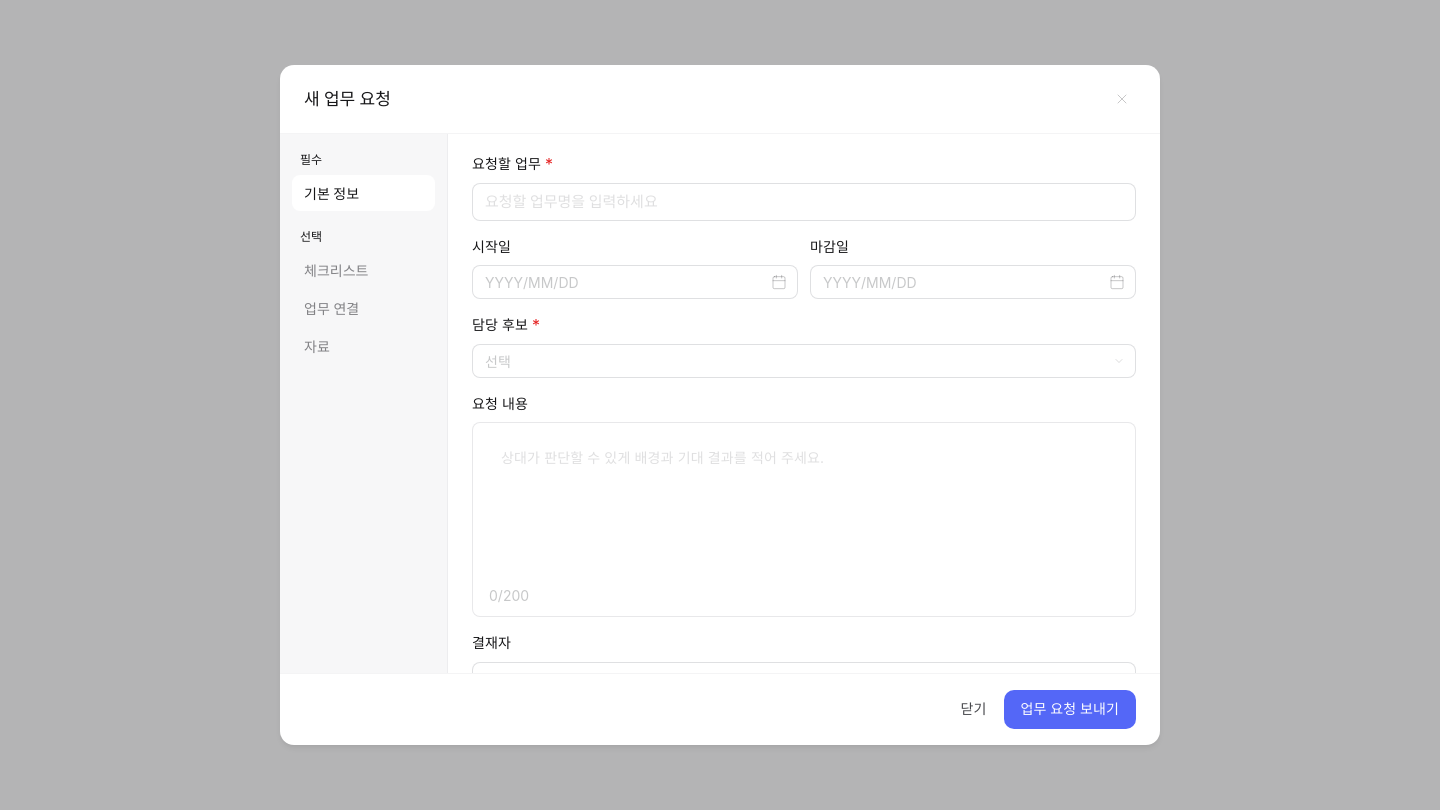
요청 갈래의 자료 — 보낸 요청에 두 단계로 붙는다 › 요청 갈래에도 자료 탭과 파일·링크 입력이 선다
Click the tab "자료": x=364, y=346 [292, 328, 435, 364]
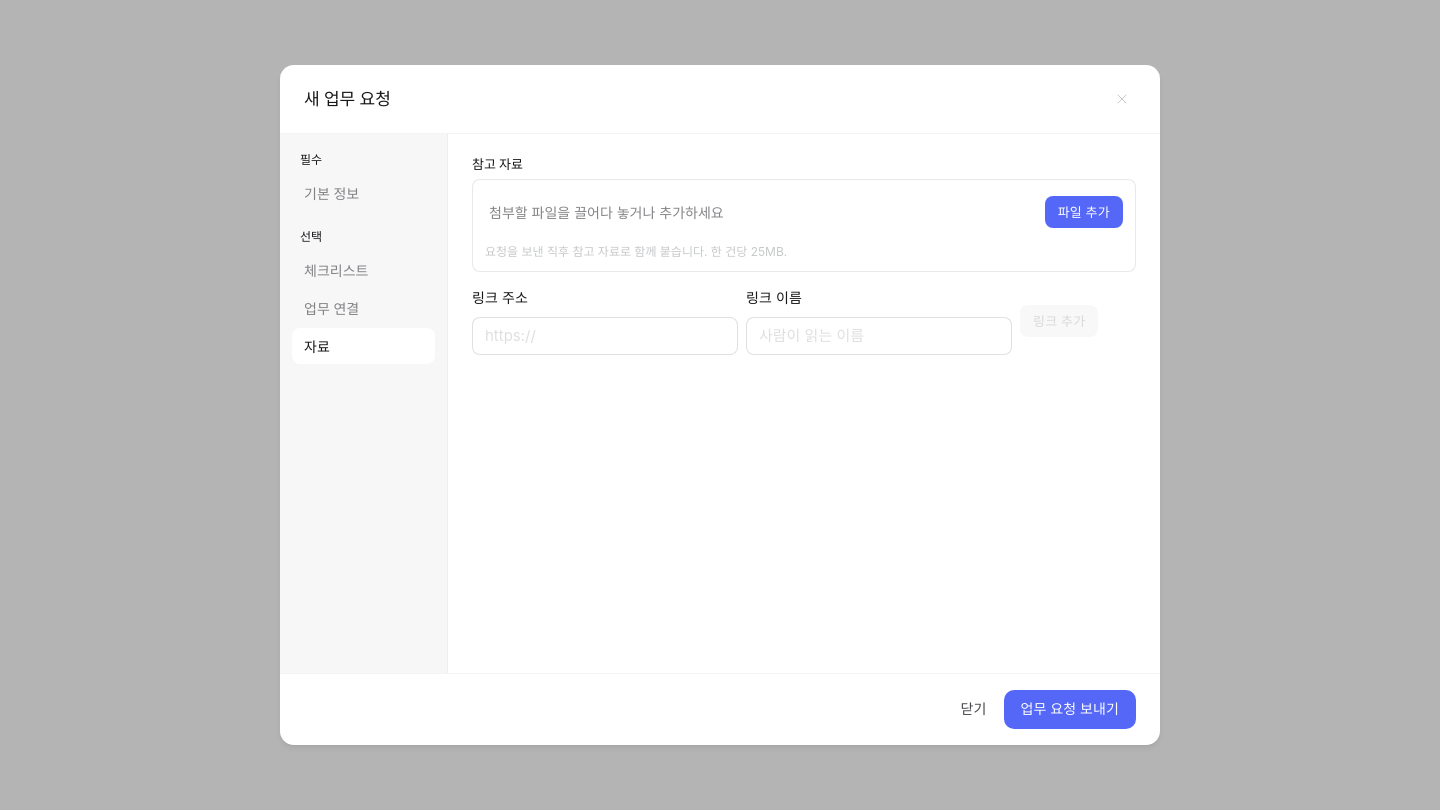
Expected: the element named "첨부파일" is shown, [472, 154, 1136, 354]
Expected: the element labelled "파일 추가" is shown, [472, 179, 1136, 272]
Expected: the field labelled "링크 주소" is shown, [472, 316, 738, 354]
